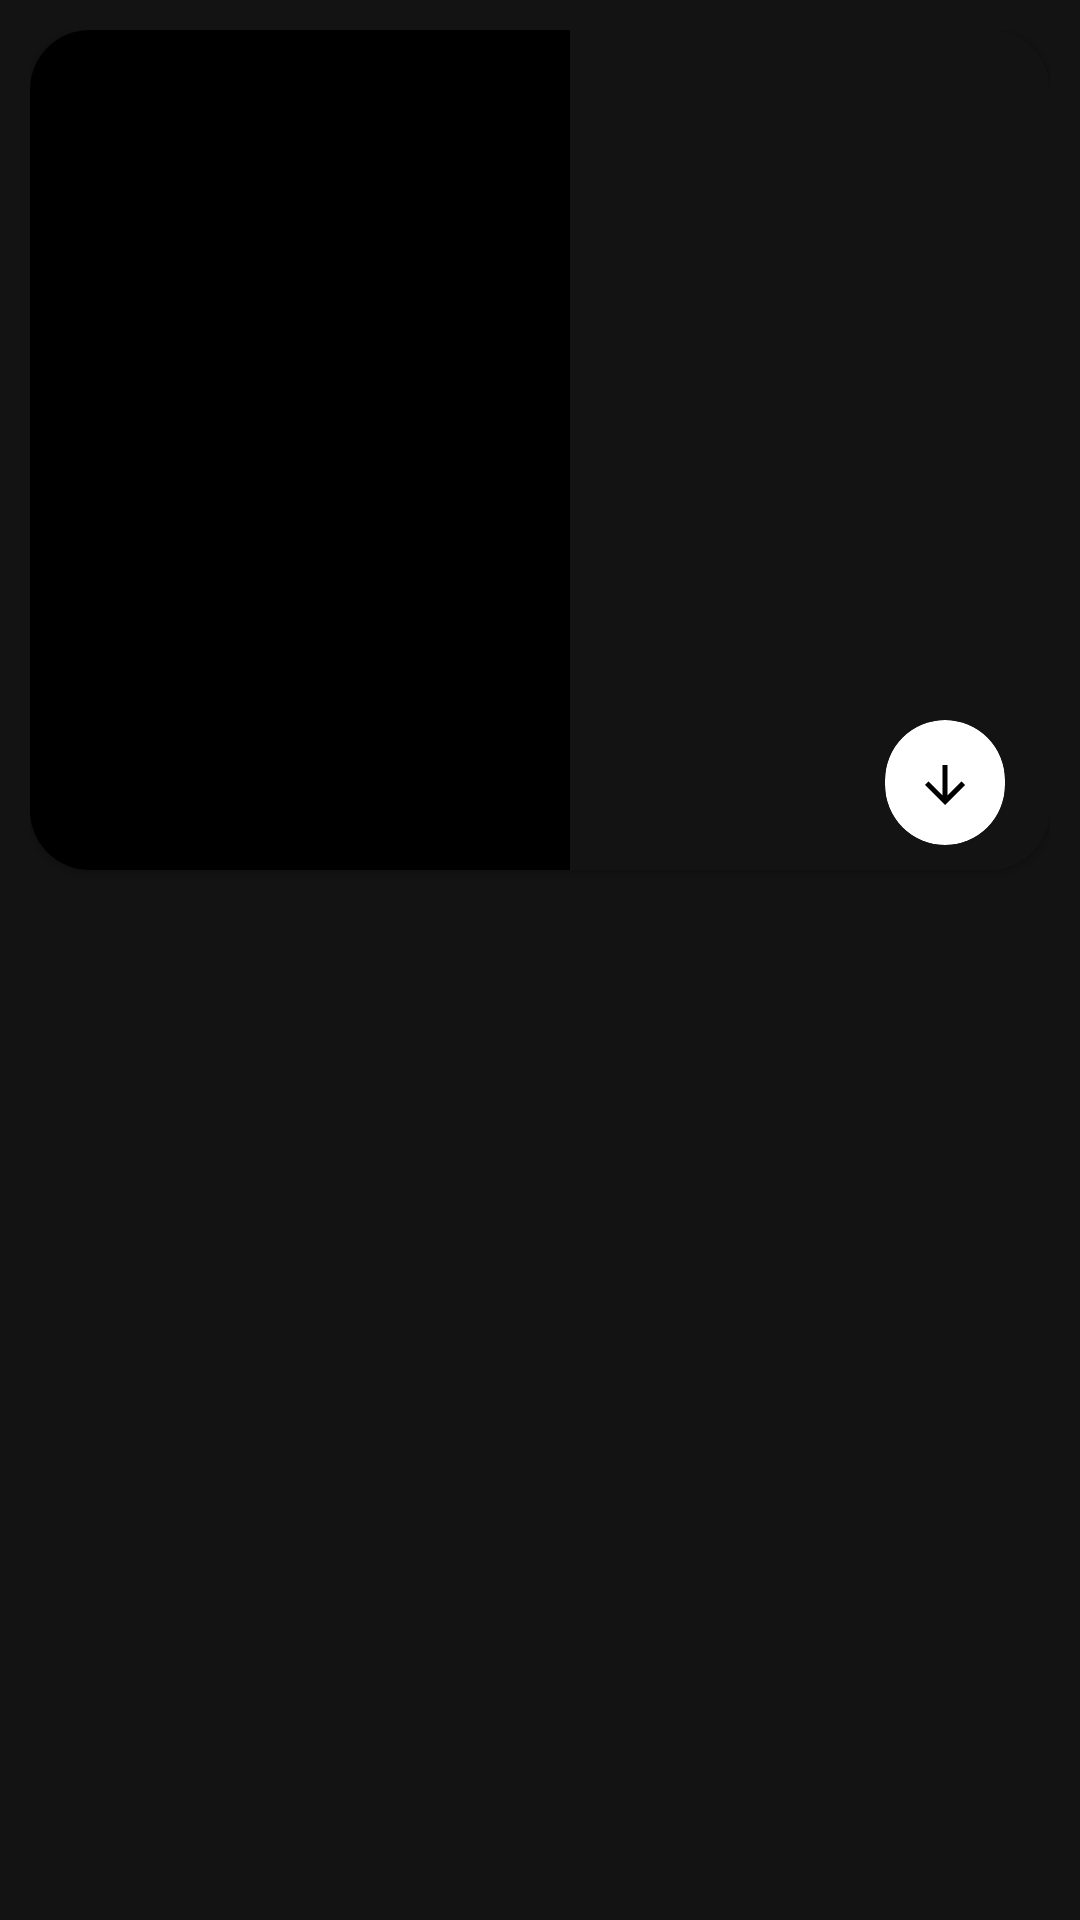

Icon bounding boxes for this 1080×1920 phone screenshot, format box=[x1, y1, x2, y2]:
downloads: box=[925, 765, 965, 805]
